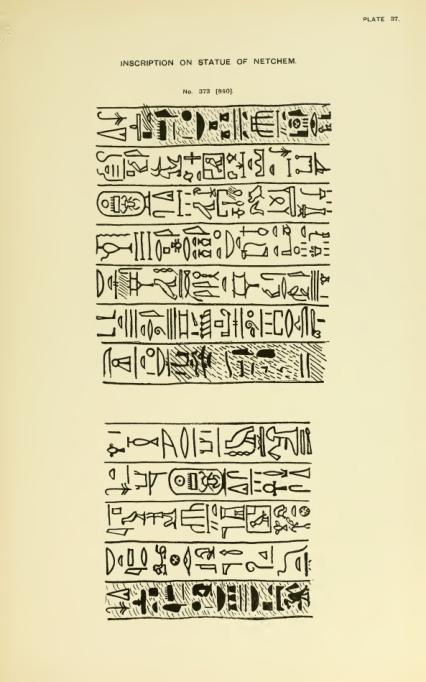circle: (167, 466, 229, 500), (95, 189, 154, 220)
